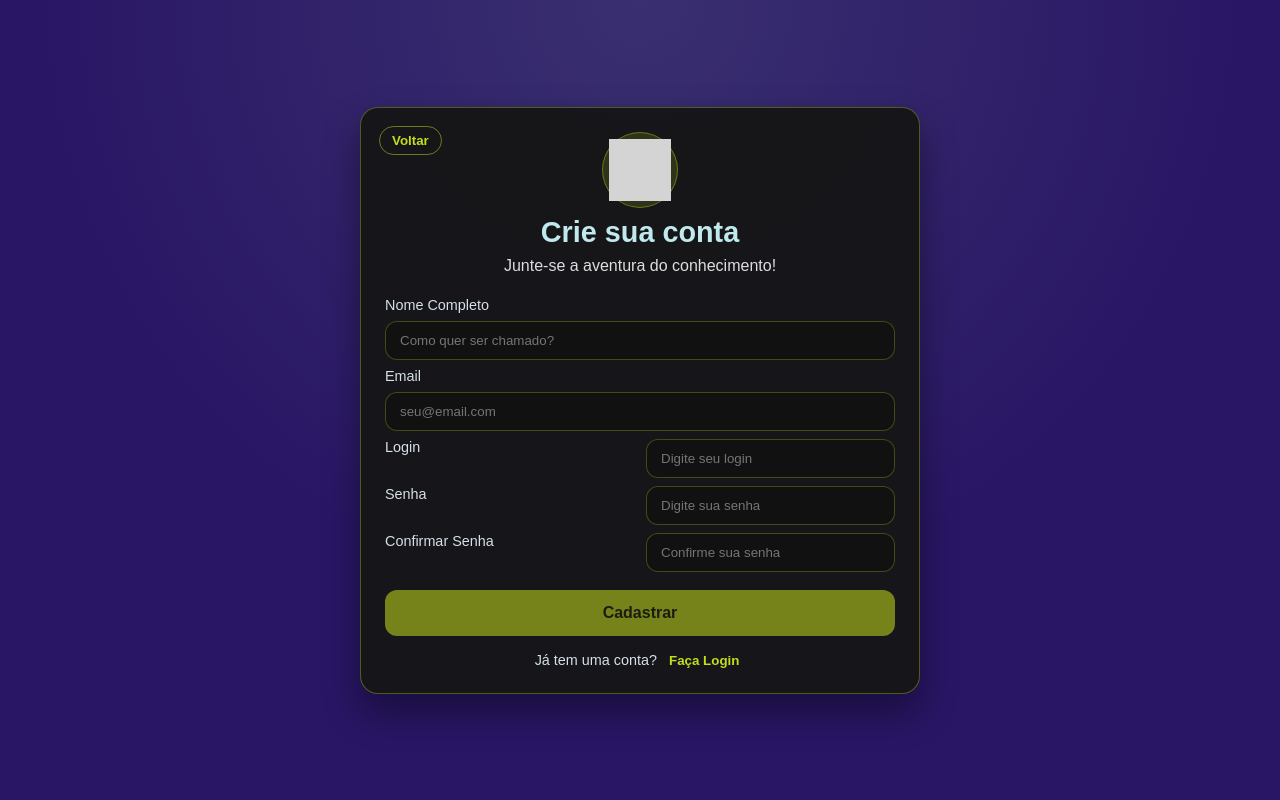
Test: RegisterScreen › shows an inline validation error when passwords do not match
Type "Usuário Cadastro 1" into the field labelled "Nome Completo" at (640, 340), box [385,320,895,360]
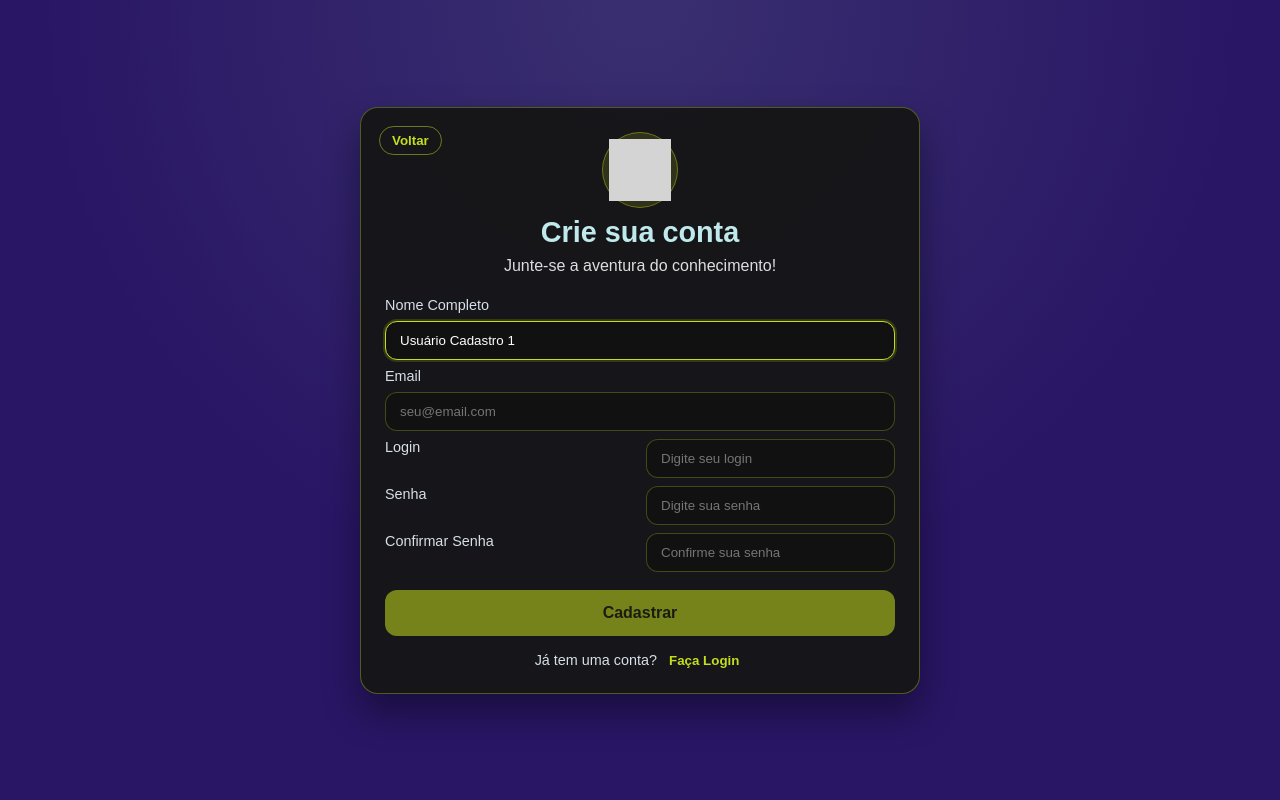
Type "user01@teste.com" into the field labelled "Email" at (640, 411), box [385,392,895,430]
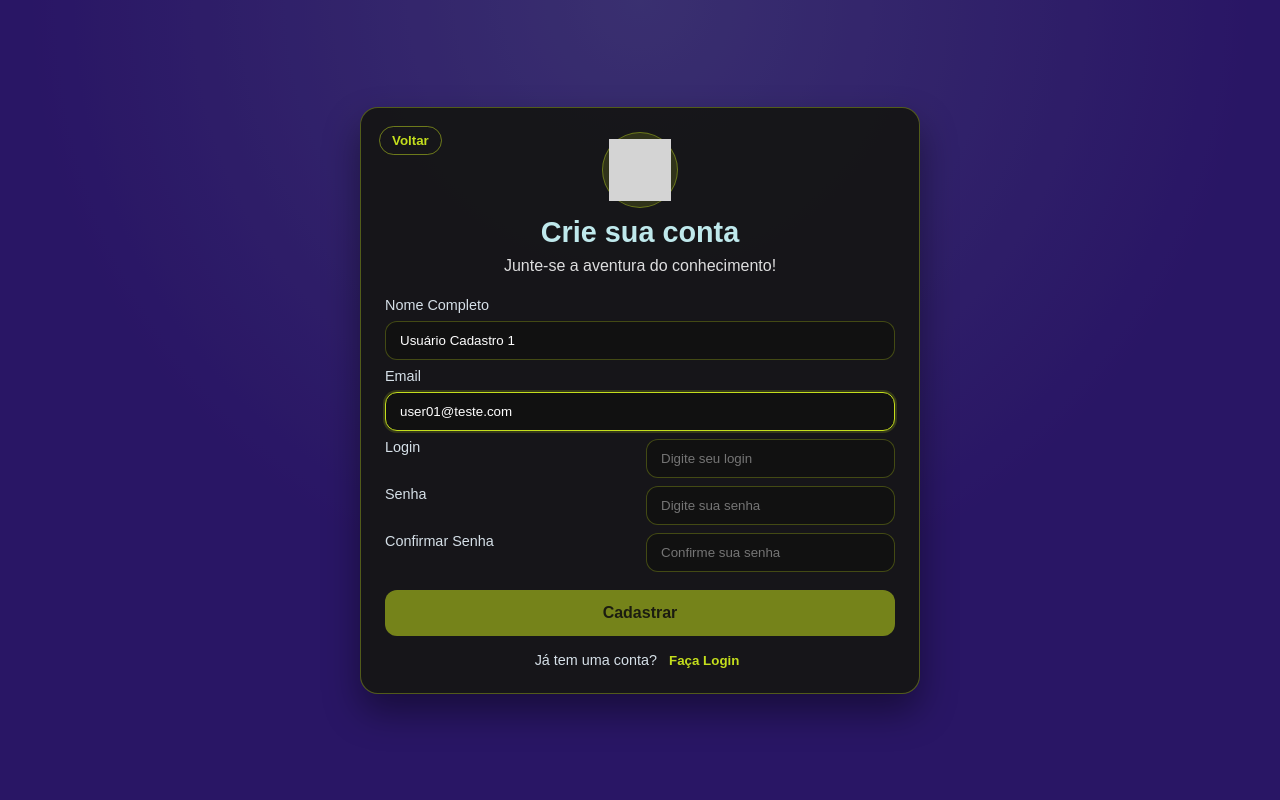
Type "user01" into the field labelled "Login" at (770, 458), box [646,438,895,478]
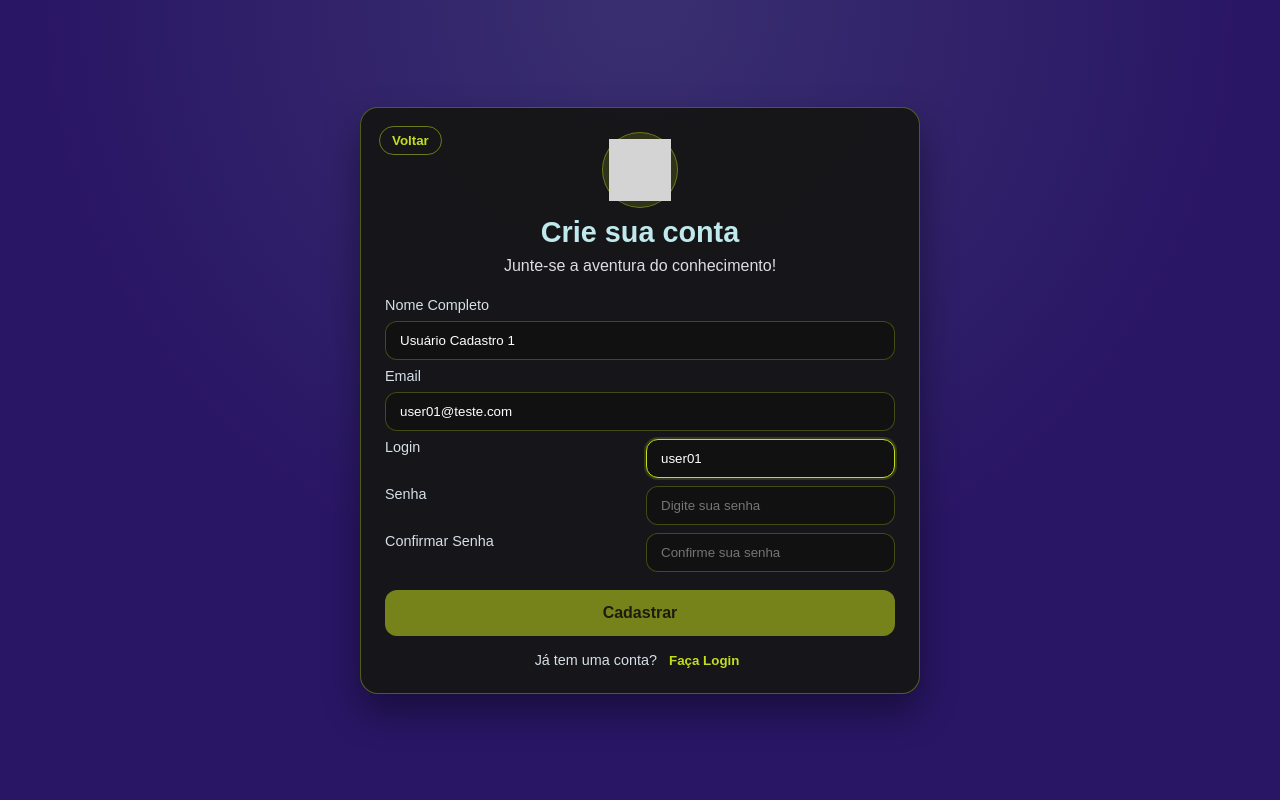
Type "1234" into the password field labelled "Senha" at (770, 505), box [646,486,895,524]
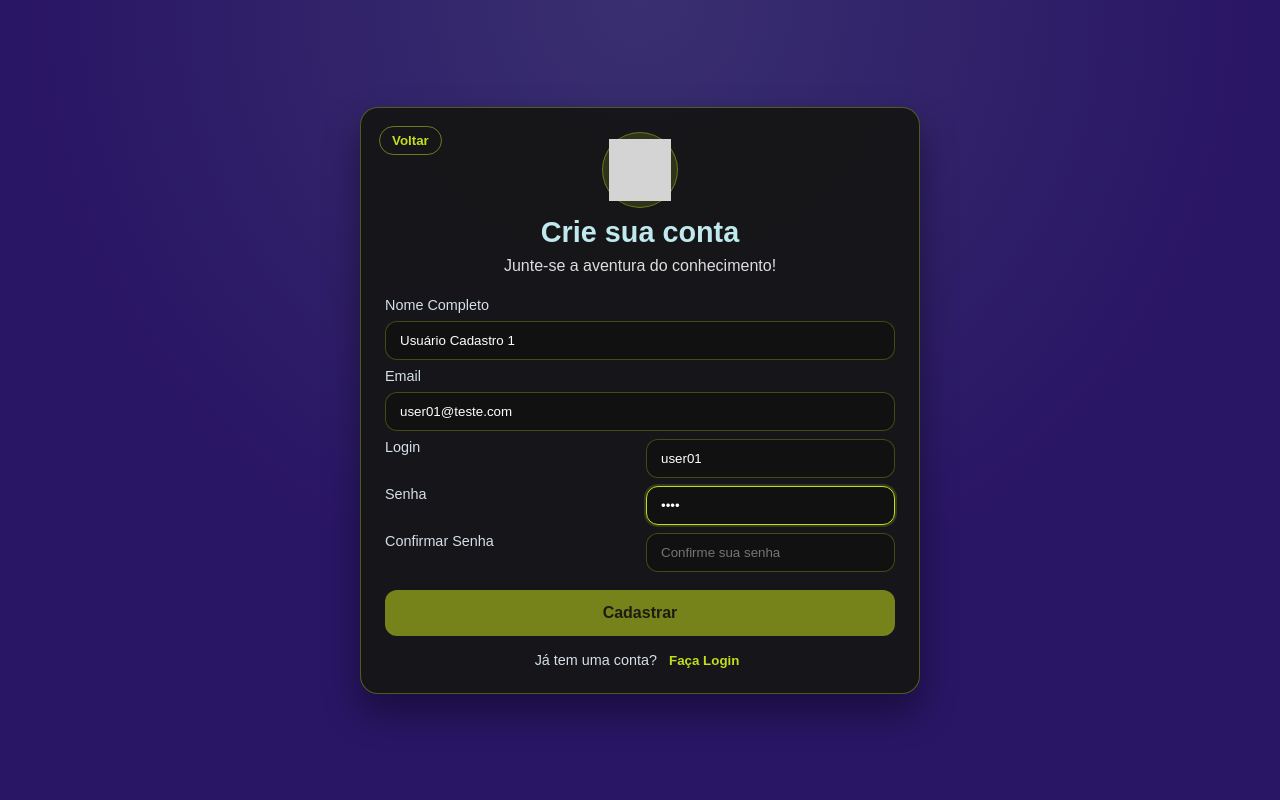
Type "4321" into the password field labelled "Confirmar Senha" at (770, 552), box [646,532,895,572]
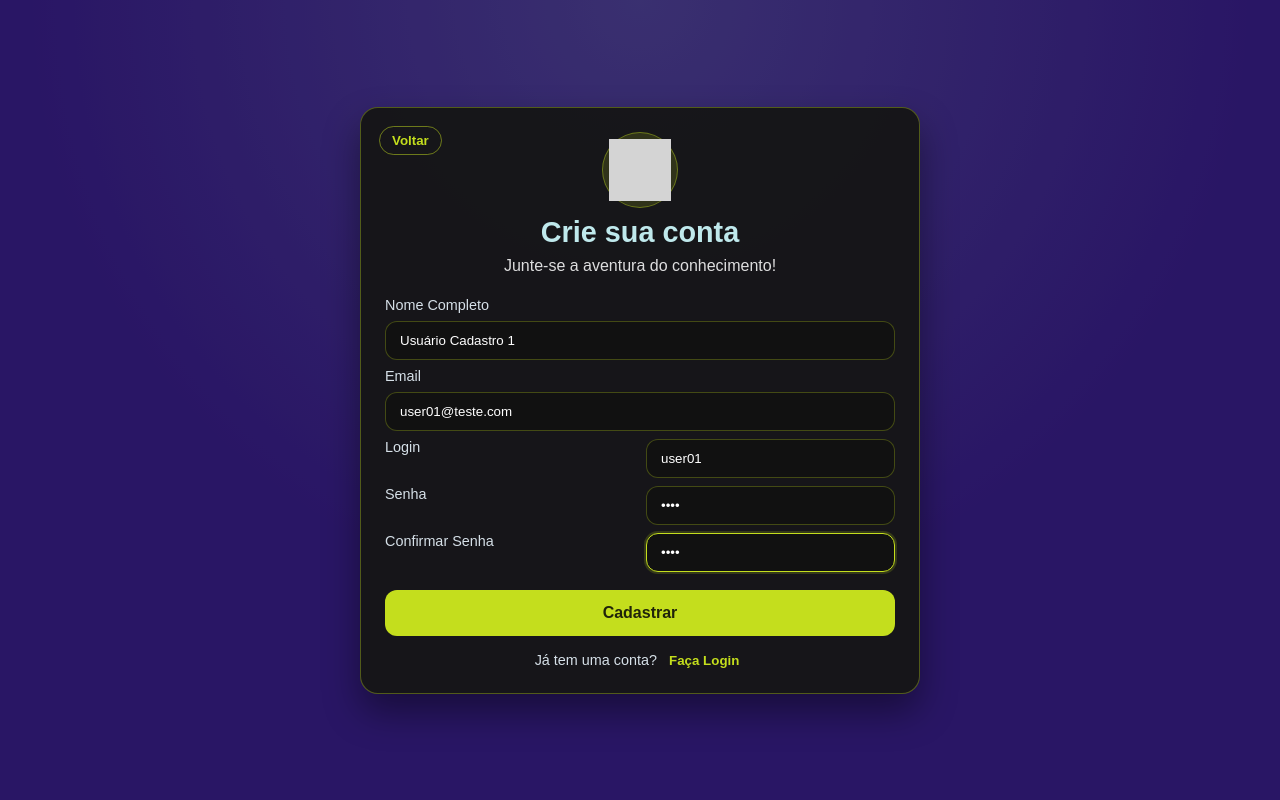
Click the button "Cadastrar" at (640, 612), box [385,590,895,636]
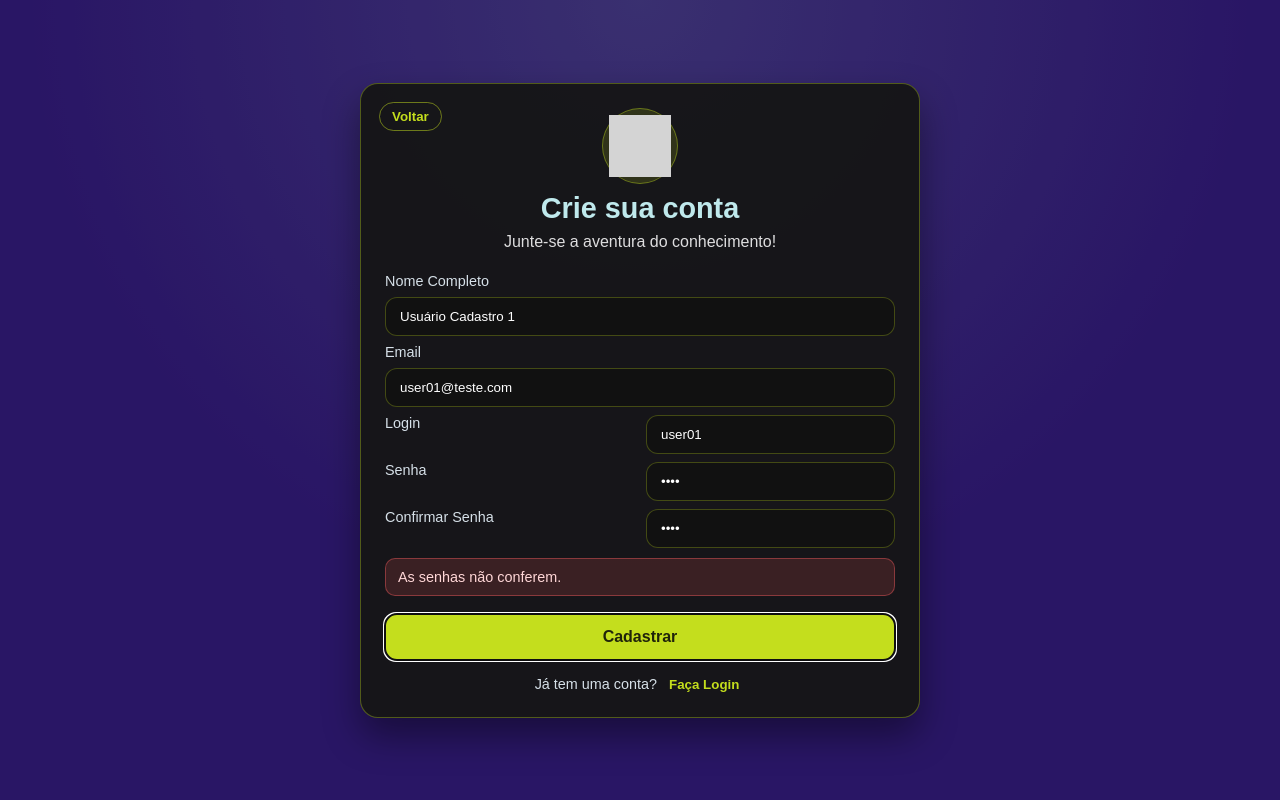
Check: the text "As senhas não conferem." is shown, box [385,558,895,596]
